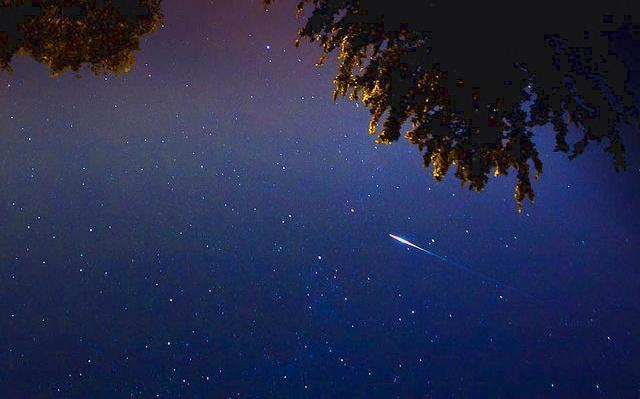meteorite: (367, 229, 547, 300)
